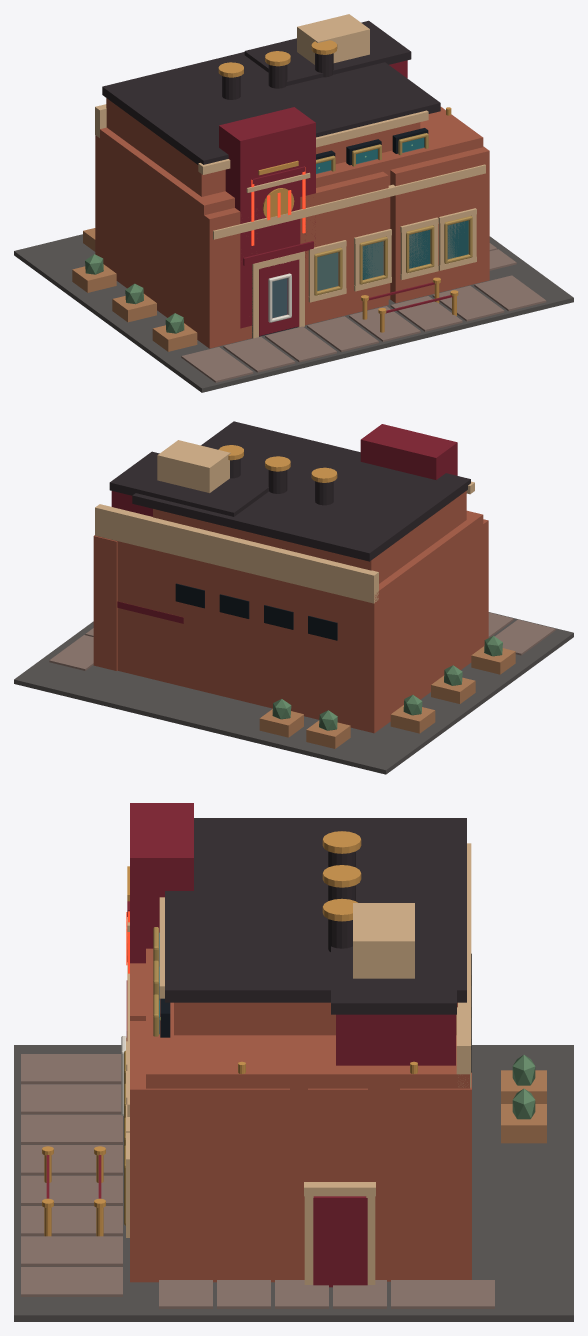
3 views of the same model, one above another, from view 1: azimuth 30°, elevation 25°; view 2: azimuth 150°, elevation 25°; view 3: azimuth 270°, elevation 25° (orthographic). The views are drawn at different scales.
Visible parts, largest first — view 1: MainHall, RoofSlab, GroundPad, SITE_FrontPaving, CornerEntryTower, FrontWallRight, FrontWallMid, FrontWallLeft, UpperLounge, RearRoofSlab, SITE_NarrowPlanters, MainCornice (+16 smaller); view 2: MainHall, RoofSlab, GroundPad, RearParapet, UpperLounge, SITE_NarrowPlanters, RearRoofSlab, CornerEntryTower, ServiceSideRear, HVAC, Refined_RearServiceDetail, SITE_ControlledGreen (+4 smaller); view 3: RoofSlab, GroundPad, ServiceSideFront, MainHall, SITE_FrontPaving, ServiceSideRear, SITE_ServicePath, RearRoofSlab, CornerEntryTower, RearStageBlock, UpperLounge, ServiceDoorLeaf_Main (+14 smaller).
Boxes of the visible parts, x1,y1,x2,y2 form: MainHall: (95, 107, 483, 344); RoofSlab: (102, 52, 440, 164); GroundPad: (14, 234, 573, 392); SITE_FrontPaving: (181, 275, 546, 382); CornerEntryTower: (219, 107, 315, 328); FrontWallRight: (390, 147, 488, 303); FrontWallMid: (300, 171, 388, 325); FrontWallLeft: (204, 208, 251, 348); UpperLounge: (106, 98, 420, 196); RearRoofSlab: (244, 20, 411, 85); SITE_NarrowPlanters: (72, 228, 197, 351); MainCornice: (213, 164, 485, 239); MainHall: (95, 510, 483, 733); RoofSlab: (132, 421, 470, 561); GroundPad: (14, 612, 573, 774); RearParapet: (95, 504, 378, 603); UpperLounge: (153, 491, 466, 583); SITE_NarrowPlanters: (259, 646, 515, 748); RearRoofSlab: (109, 451, 268, 516); CornerEntryTower: (360, 424, 457, 479); ServiceSideRear: (93, 535, 117, 670); HVAC: (157, 440, 230, 492); Refined_RearServiceDetail: (117, 583, 337, 640); SITE_ControlledGreen: (272, 636, 502, 730); RoofSlab: (165, 818, 466, 1002); GroundPad: (14, 1045, 573, 1321); ServiceSideFront: (130, 1076, 289, 1282); MainHall: (146, 948, 469, 1281); SITE_FrontPaving: (21, 1054, 122, 1296); ServiceSideRear: (400, 1072, 471, 1279); SITE_ServicePath: (159, 1280, 494, 1308); RearRoofSlab: (331, 912, 456, 1014); CornerEntryTower: (130, 803, 193, 963); RearStageBlock: (336, 1014, 455, 1065); UpperLounge: (174, 1002, 457, 1035); ServiceDoorLeaf_Main: (313, 1196, 367, 1287).
Size of the model in its own units: 16 by 8.69 by 14.
